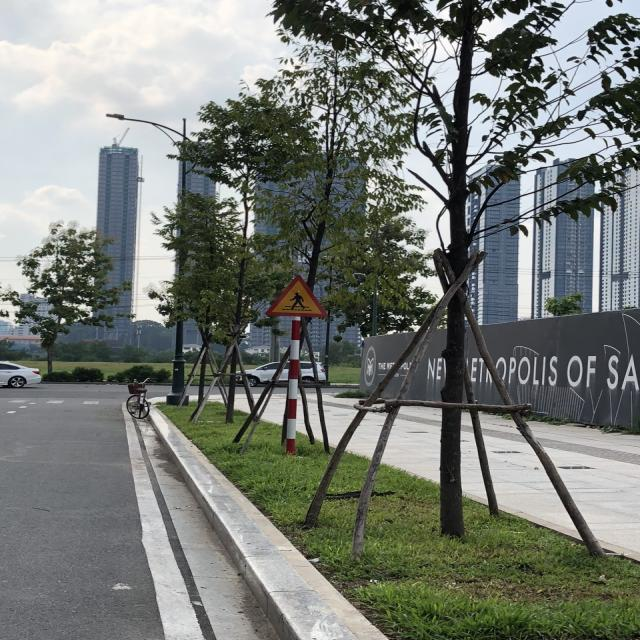Bien bao duong nguoi di bo cat ngang: (259, 270, 337, 322)
